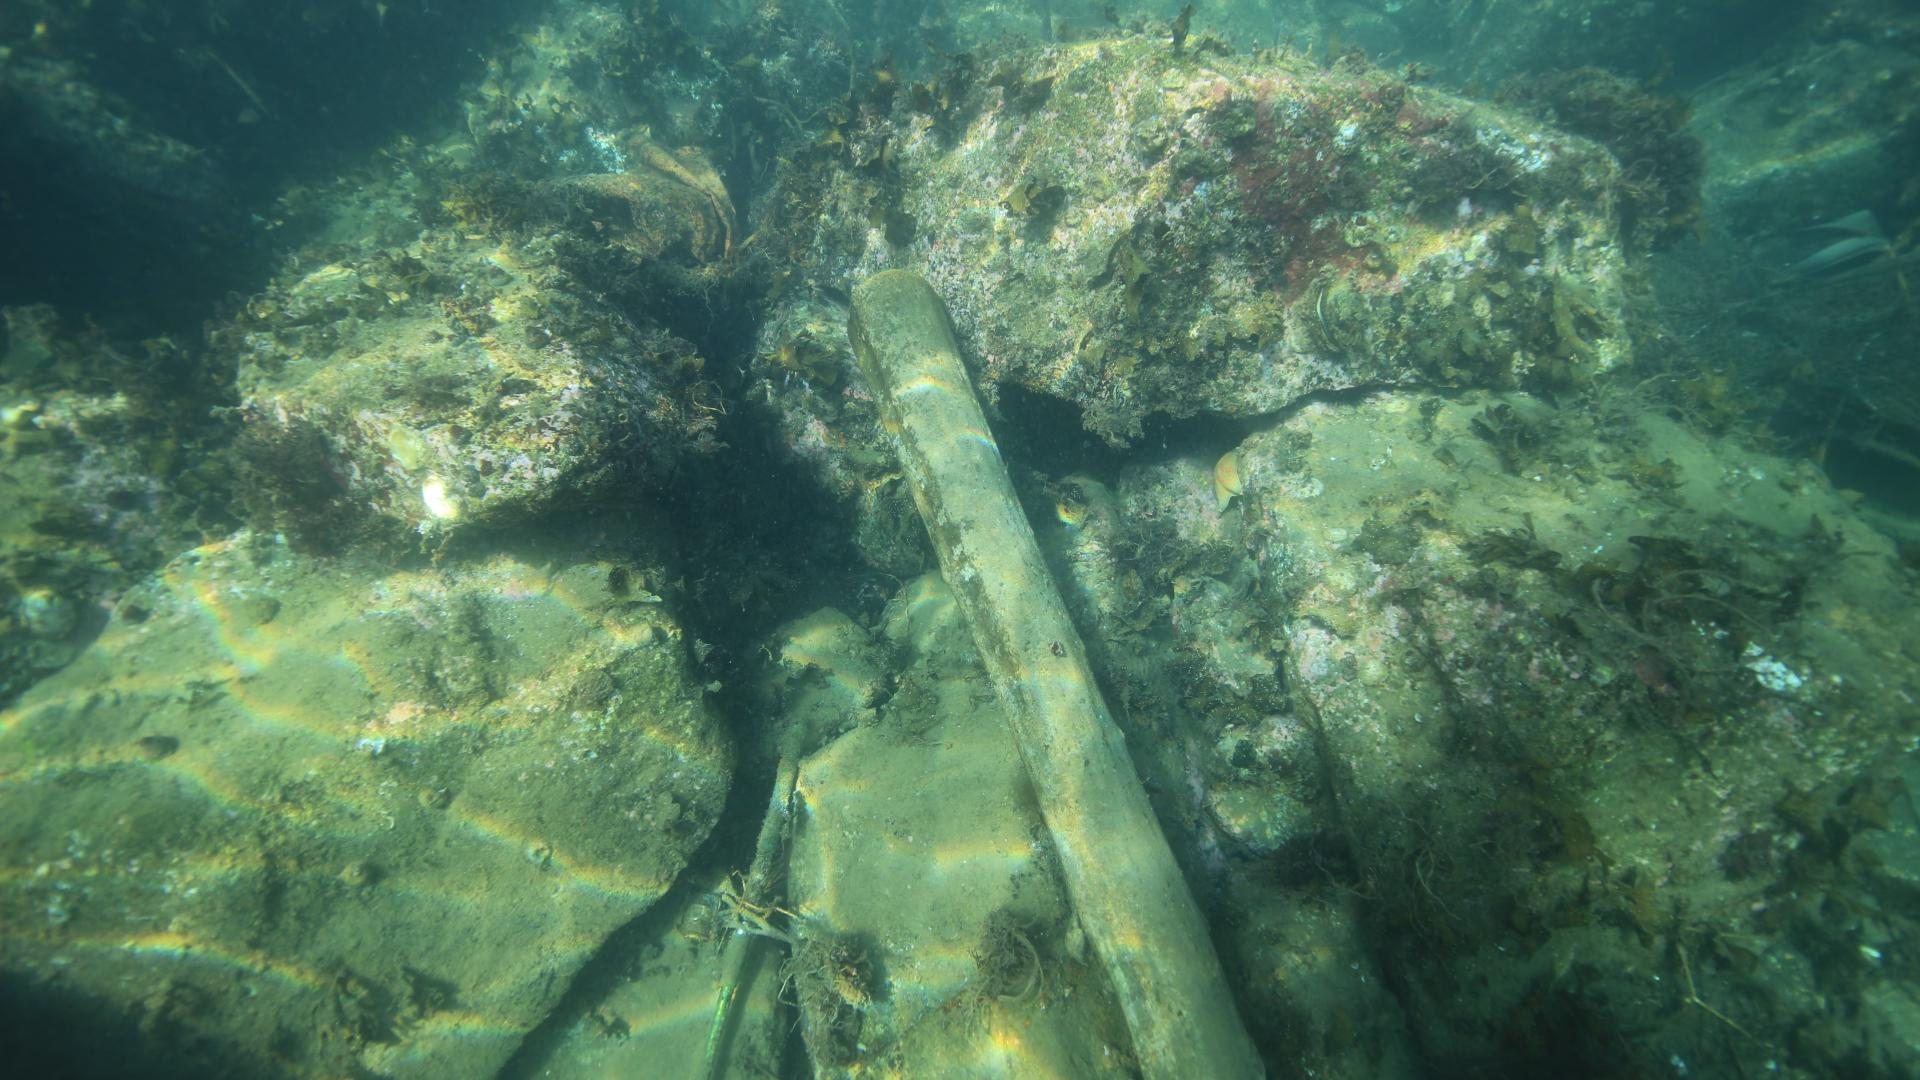wood: (849, 270, 1270, 1080)
